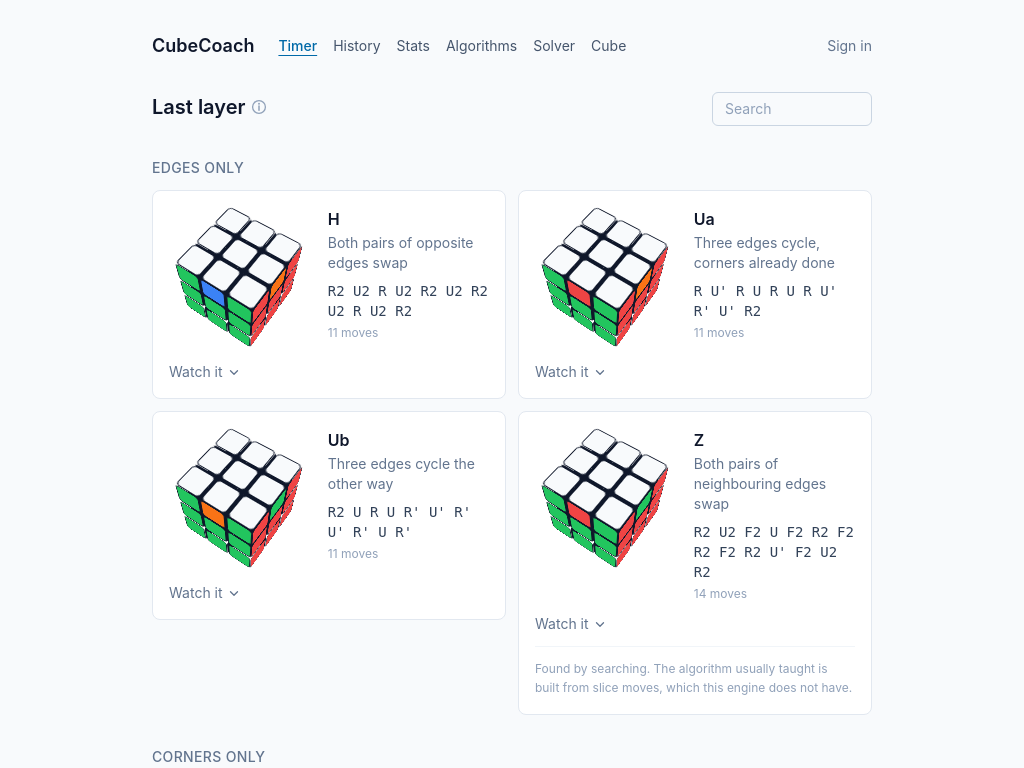
Scenario: AlgorithmsPage › says so when nothing matches
The width and height of the screenshot is (1024, 768).
Step 1. Type "zzzz" into the search field named "search cases" → (792, 109), box [712, 92, 872, 126]
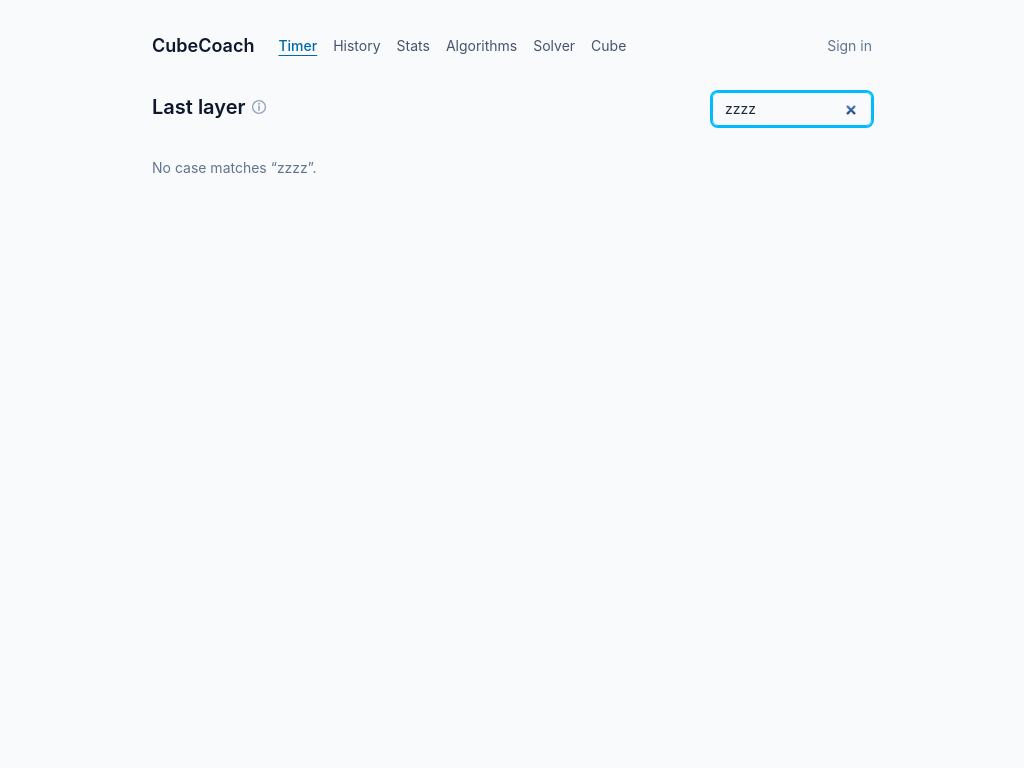
Expected: the text "No case matches “zzzz”." is shown, [152, 159, 317, 176]
